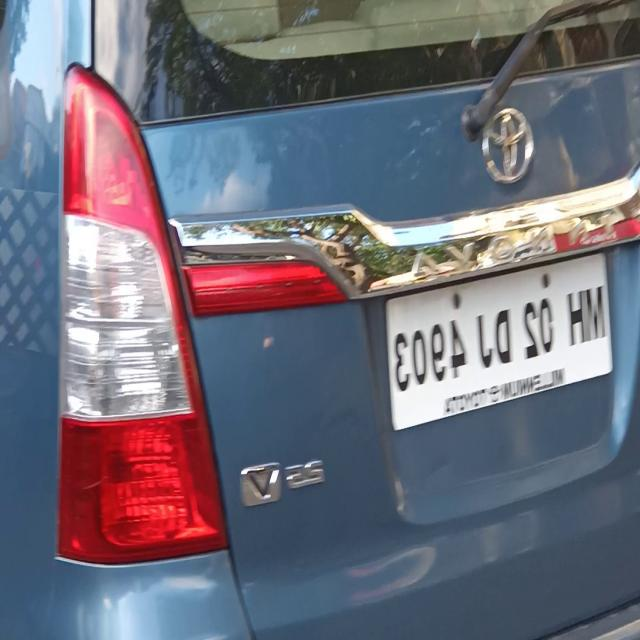license_plate: (384, 244, 614, 440)
